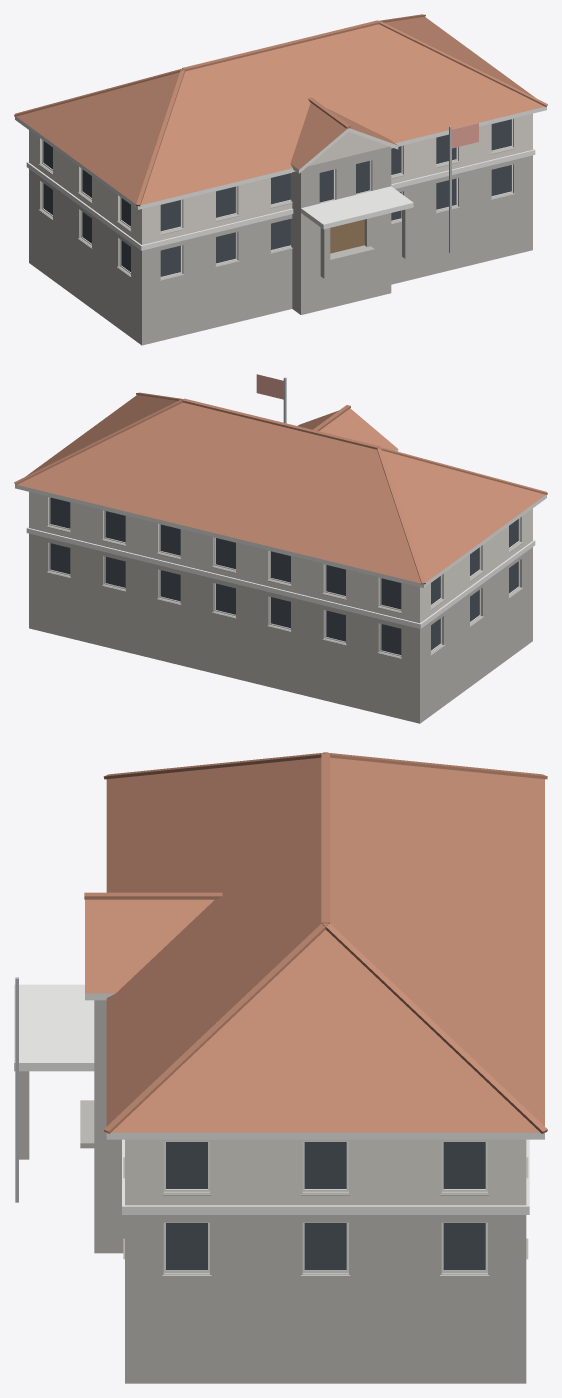
Rendered from public_hipped_2_m.glb.
3 views of the same model, one above another, from view 1: azimuth 30°, elevation 25°; view 2: azimuth 150°, elevation 25°; view 3: azimuth 270°, elevation 25° (orthographic). The views are drawn at different scales.
Visible parts, largest first — view 1: public_hipped_2_m; view 2: public_hipped_2_m; view 3: public_hipped_2_m.
Part boxes in pixels (bbox=[...]): public_hipped_2_m: bbox=[14, 14, 547, 345]; public_hipped_2_m: bbox=[14, 374, 547, 723]; public_hipped_2_m: bbox=[14, 752, 547, 1383].
Size of the model in its own units: 27.4 by 13.44 by 17.3.
